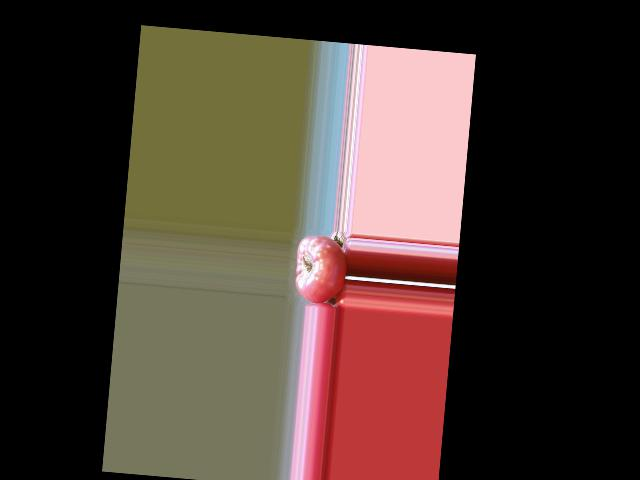tomato: (293, 233, 349, 306)
